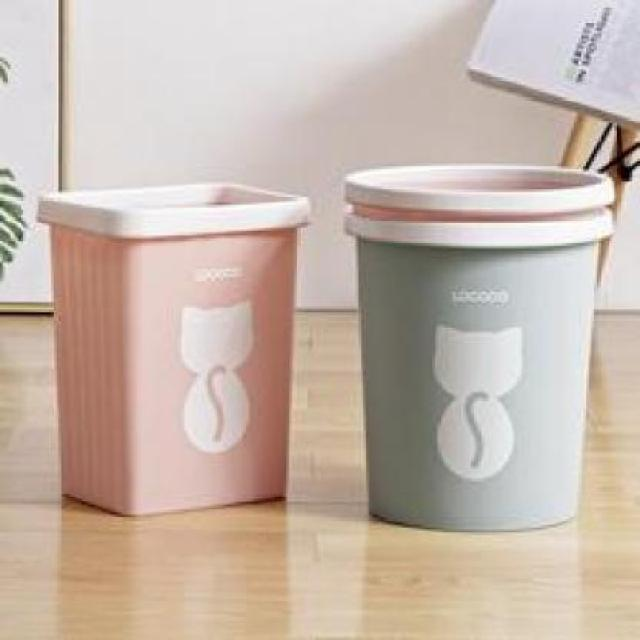dustbin: (335, 159, 618, 536), (34, 171, 316, 520)
